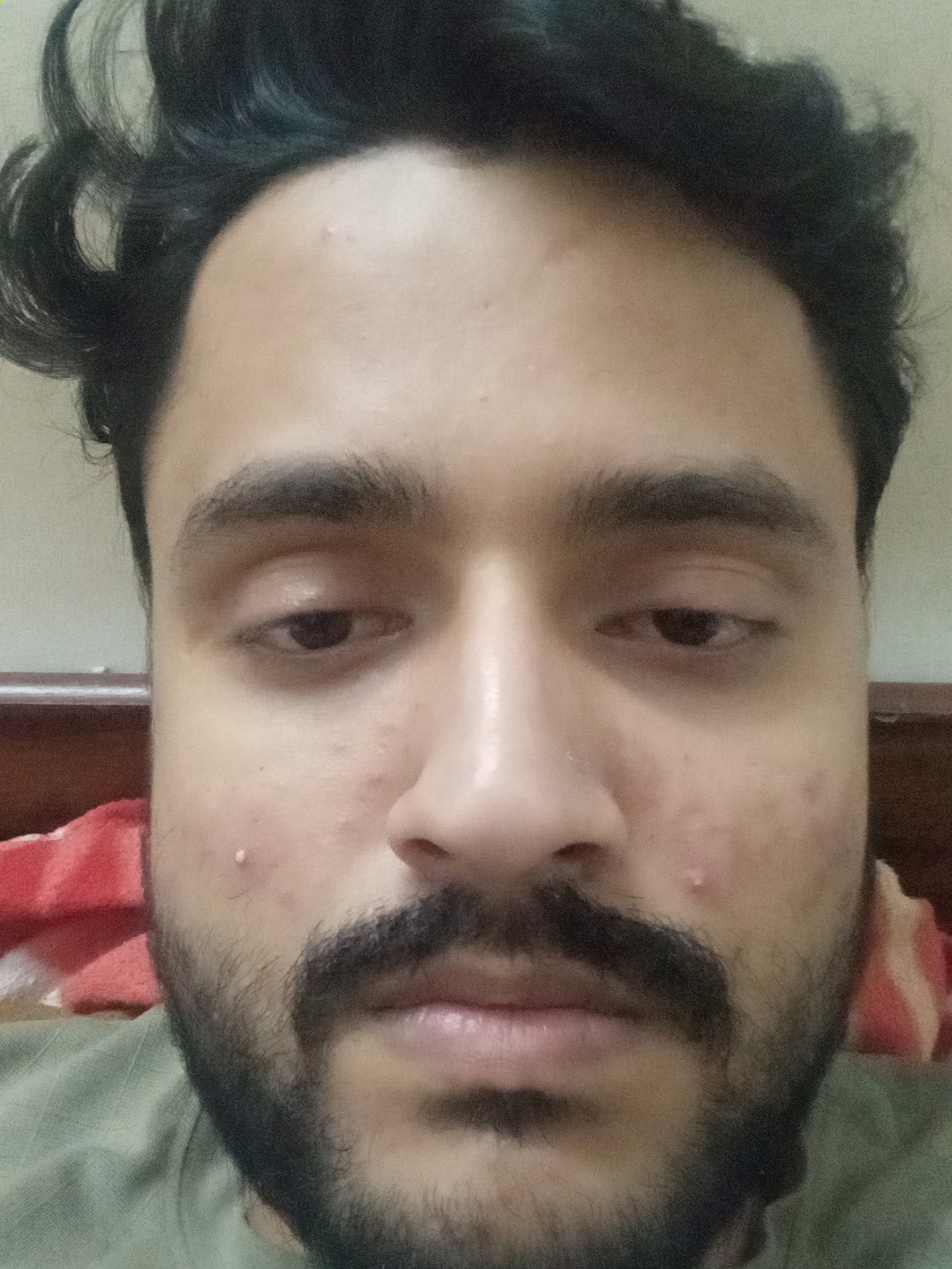pustule: (222, 838, 268, 875), (678, 867, 723, 895)
